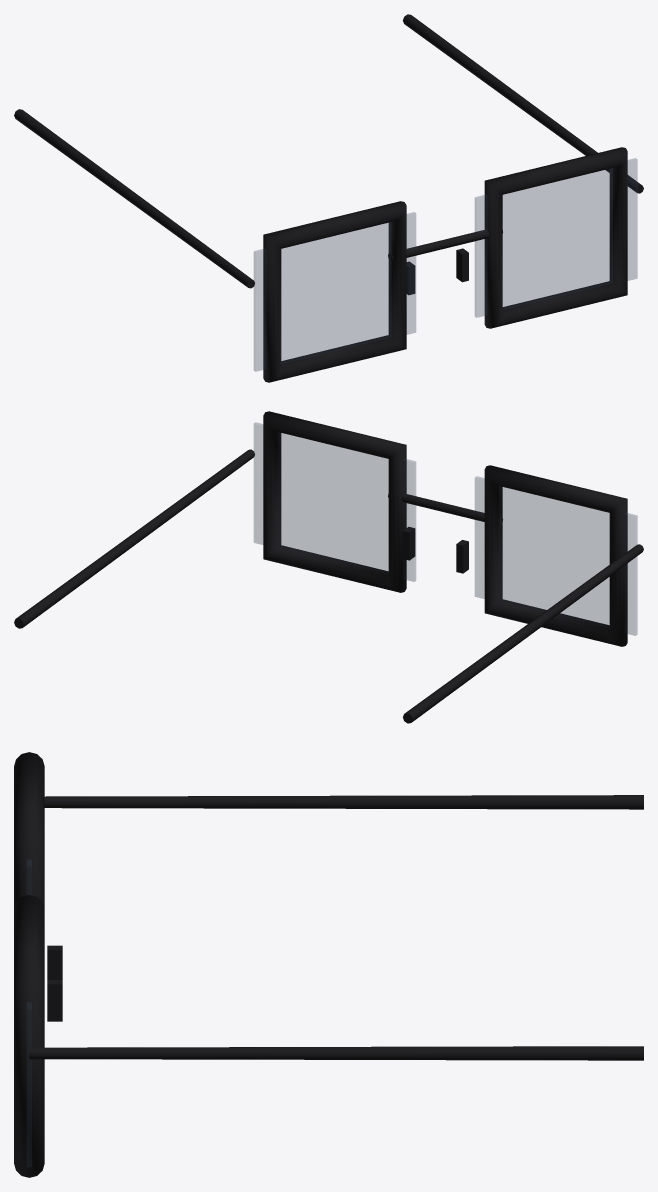
File: fastrack_wayfarer_black.glb
3 views of the same model, one above another, from view 1: azimuth 30°, elevation 25°; view 2: azimuth 150°, elevation 25°; view 3: azimuth 270°, elevation 25° (orthographic). The views are drawn at different scales.
Parts seen in each view (by area): view 1: rightLens, leftLens, rightRim, leftRim, rightTemple, leftTemple, noseBridge; view 2: leftLens, rightLens, leftRim, rightRim, rightTemple, leftTemple, noseBridge; view 3: leftTemple, leftRim, rightTemple, rightRim, leftLens, nosePad_1.
Part boxes in pixels (bbox=[...]): rightLens: bbox=[254, 212, 415, 371]; leftLens: bbox=[475, 158, 637, 317]; rightRim: bbox=[263, 201, 406, 382]; leftRim: bbox=[484, 147, 627, 328]; rightTemple: bbox=[14, 109, 254, 288]; leftTemple: bbox=[403, 14, 643, 193]; noseBridge: bbox=[388, 229, 502, 261]; leftLens: bbox=[254, 422, 415, 581]; rightLens: bbox=[475, 476, 637, 635]; leftRim: bbox=[263, 411, 406, 592]; rightRim: bbox=[484, 465, 627, 646]; rightTemple: bbox=[403, 544, 643, 723]; leftTemple: bbox=[14, 449, 254, 628]; noseBridge: bbox=[388, 493, 502, 525]; leftTemple: bbox=[29, 1046, 643, 1060]; leftRim: bbox=[14, 895, 44, 1177]; rightTemple: bbox=[44, 795, 643, 809]; rightRim: bbox=[14, 752, 44, 908]; leftLens: bbox=[27, 1002, 31, 1166]; nosePad_1: bbox=[47, 980, 62, 1021].
Bounding box in the file's own units: 0.119 × 0.0416 × 0.123.
